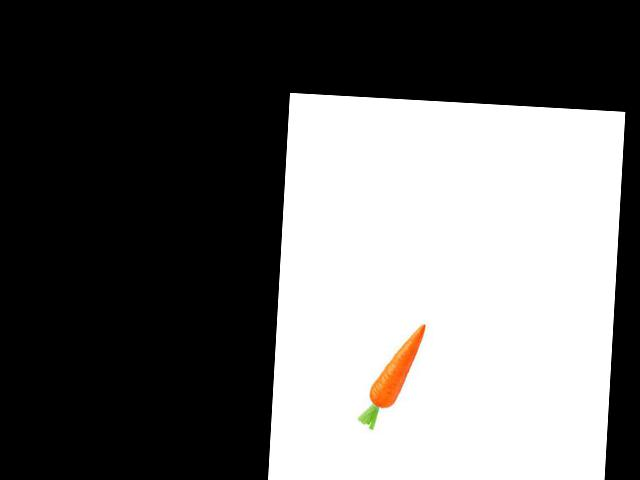carrot: (368, 319, 430, 412)
